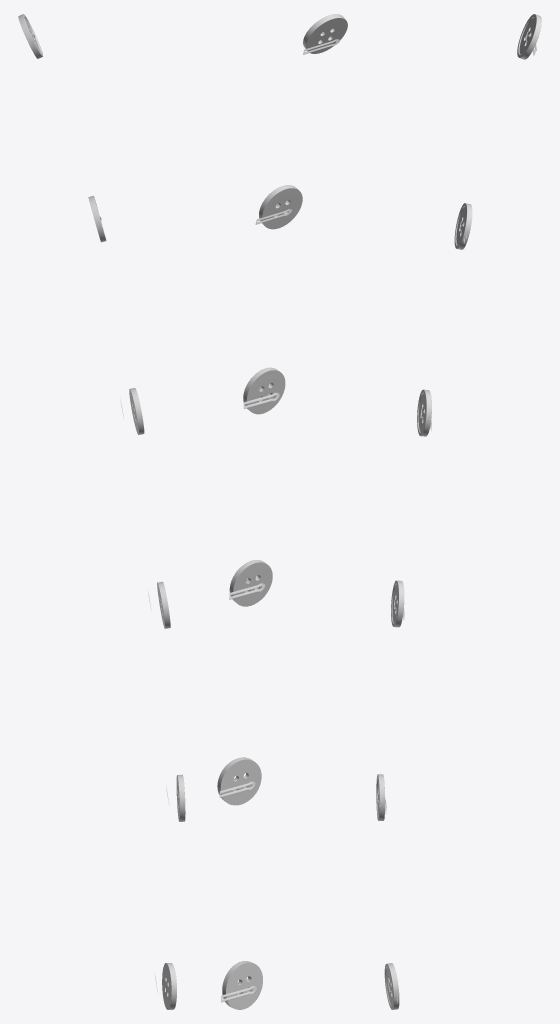
File: button_thread.glb
3 renders of one model, left to right at view 1: azimuth 90°, elevation 25°; view 2: azimuth 210°, elevation 25°; view 3: azimuth 270°, elevation 25°, orthographic. The views are drawn at different scales.
Parts seen in each view (by area): view 1: button, button.006, button.003; view 2: button.008, button, button.007, button.006, button.005, button.003; view 3: button.003, button.005, button.006, button, button.007.
Part boxes in pixels (bbox=[...]): button: bbox=[162, 963, 176, 1009]; button.006: bbox=[129, 388, 144, 434]; button.003: bbox=[18, 14, 42, 58]; button.008: bbox=[217, 757, 261, 805]; button: bbox=[222, 961, 262, 1009]; button.007: bbox=[229, 560, 272, 606]; button.006: bbox=[243, 367, 285, 414]; button.005: bbox=[259, 185, 302, 229]; button.003: bbox=[303, 14, 347, 53]; button.003: bbox=[517, 14, 541, 59]; button.005: bbox=[454, 203, 472, 249]; button.006: bbox=[417, 389, 431, 436]; button: bbox=[384, 963, 399, 1009]; button.007: bbox=[391, 580, 404, 627].
Bounding box in the file's own units: 3.31 × 53.27 × 8.29.
Materials: 2 (1 with a texture image).
